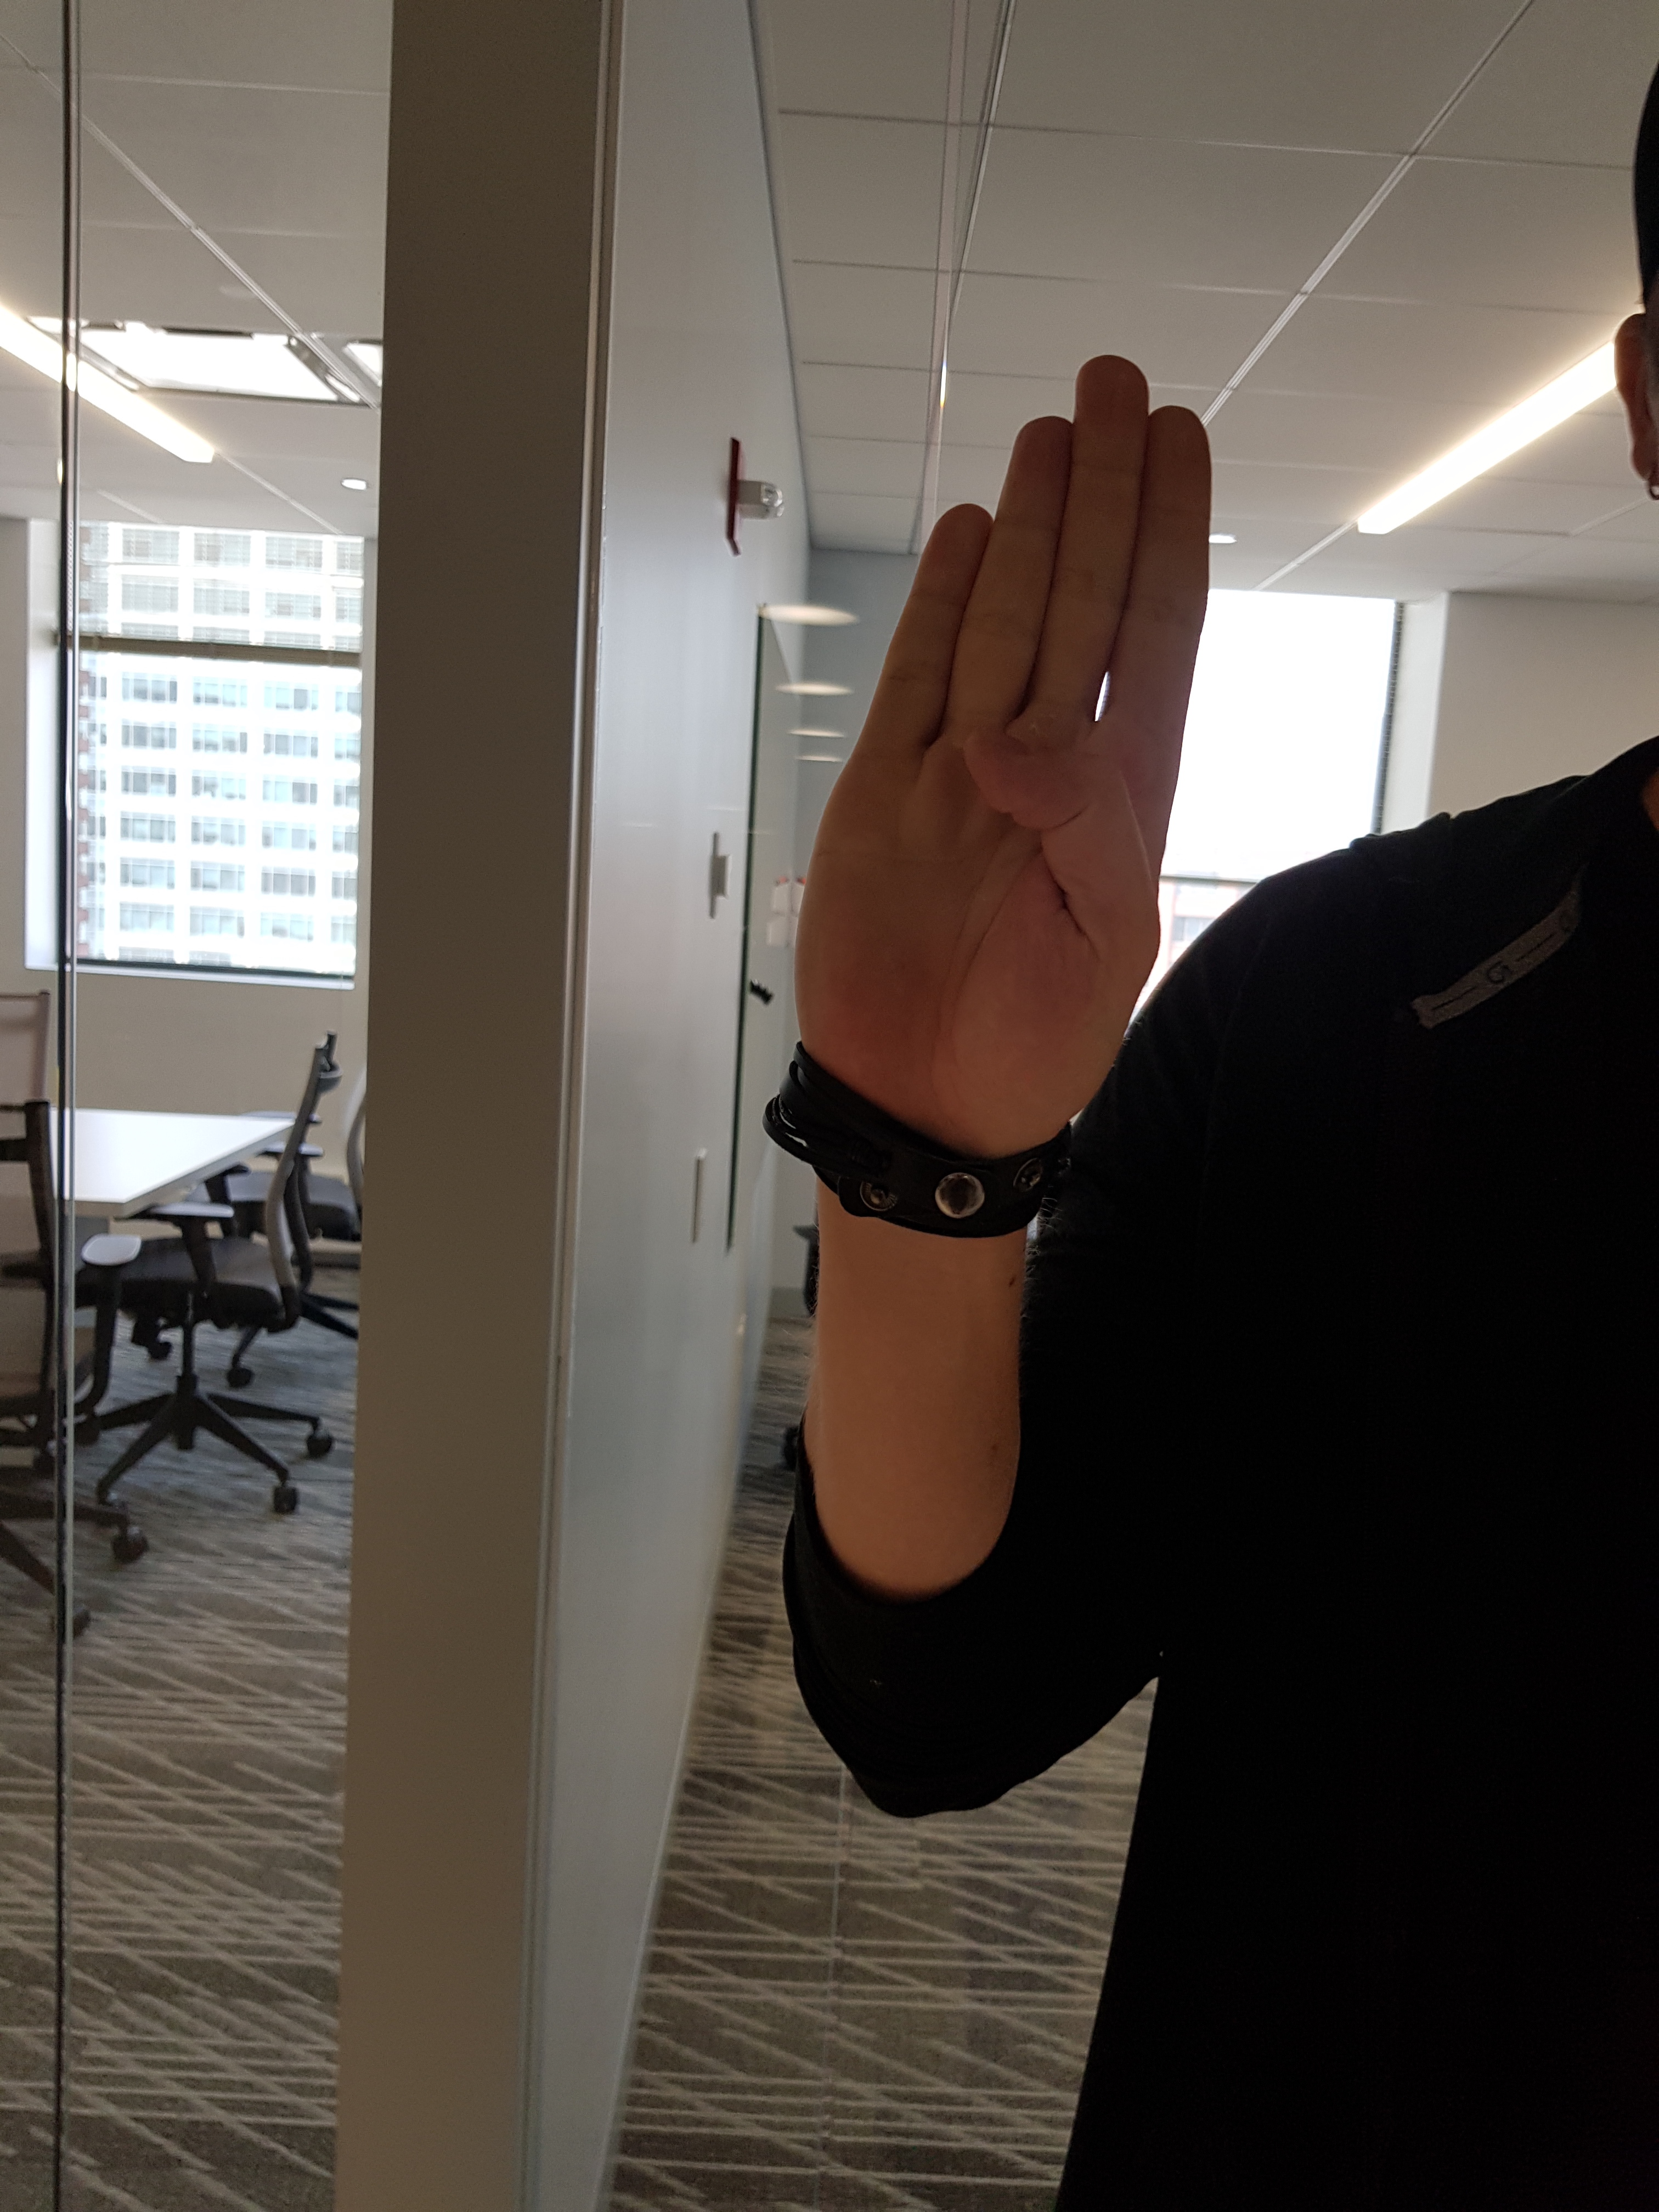b: (765, 329, 1246, 1261)
